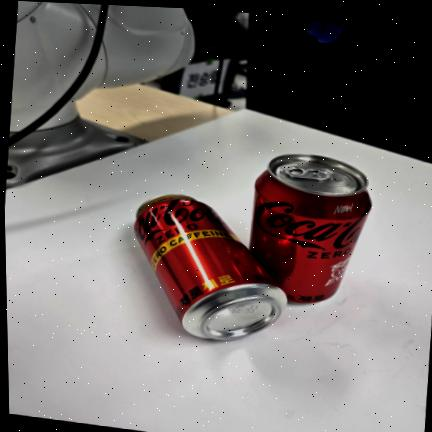can_coke_decaf: (134, 195, 286, 340)
can_coke_zero: (251, 154, 371, 303)
